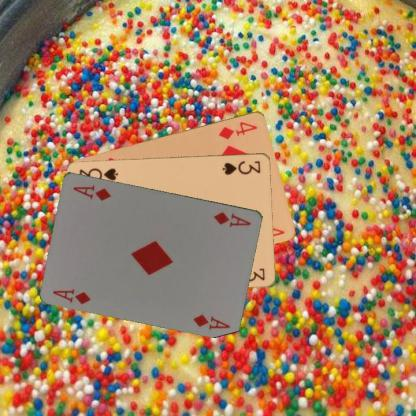3s: (220, 158, 262, 176)
4d: (216, 118, 259, 140)
Ad: (50, 286, 92, 306), (212, 208, 252, 228)
